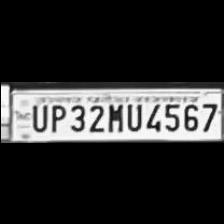2: (84, 100, 104, 132)
3: (66, 100, 86, 132)
4: (142, 97, 160, 130)
5: (160, 99, 180, 131)
6: (180, 99, 198, 130)
7: (199, 99, 217, 131)
M: (104, 98, 124, 132)
P: (47, 100, 65, 132)
U: (26, 99, 46, 130), (124, 97, 142, 130)
